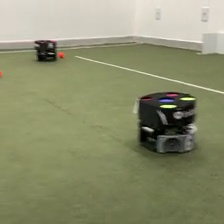ball: (58, 51, 64, 58)
goal: (200, 29, 224, 56)
robot: (136, 90, 199, 154), (32, 39, 57, 63)
